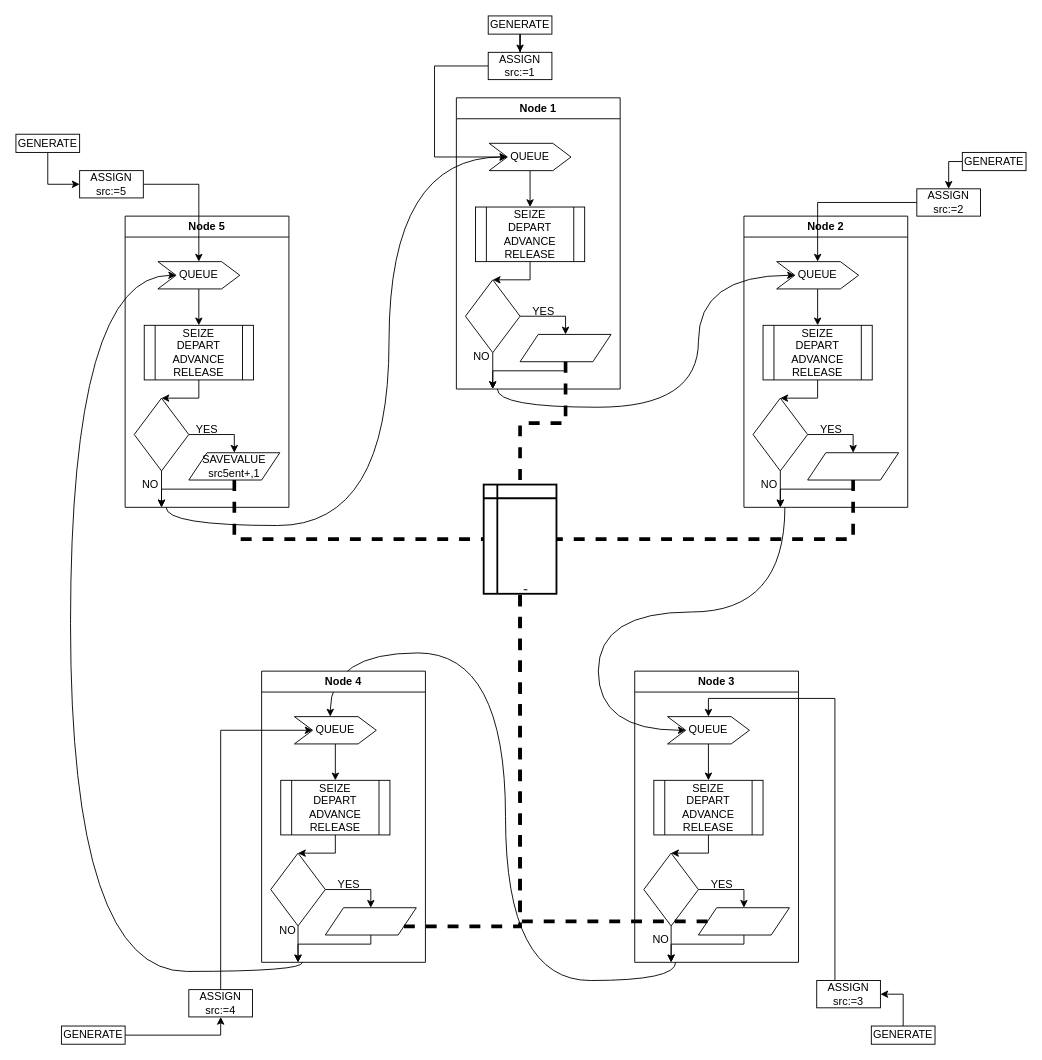
This 1042x1060 diagram has some shape labels left out. The shapes that lost their labels are listed below. From the top down, each one's centre as x and y in pixels, then its label:
point 492,316: TEST src=1?
point 565,348: SAVEVALUE src1ent+,1
point 161,434: TEST src=5?
point 780,434: TEST src=2?
point 853,466: SAVEVALUE src2ent+,1
point 519,538: src1ent src2ent src3ent src4ent src5ent
point 297,889: TEST src=4?
point 670,889: TEST src=3?
point 370,921: SAVEVALUE src4ent+,1
point 743,921: SAVEVALUE src3ent+,1
